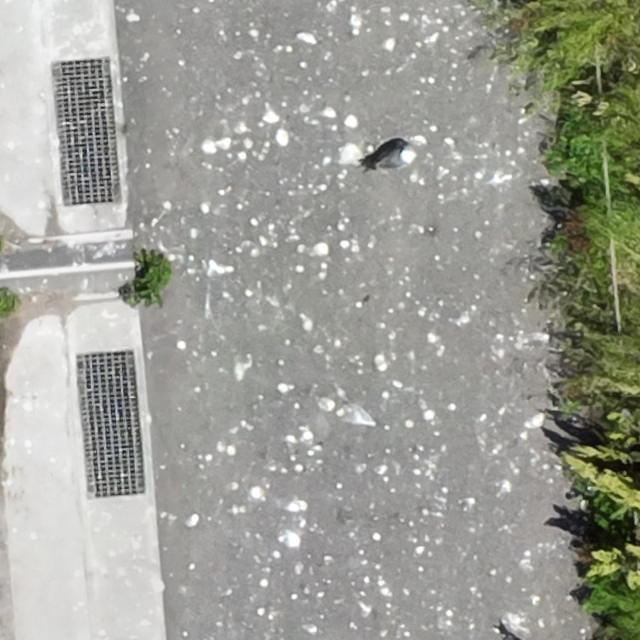umineko: (378, 149, 413, 168)
